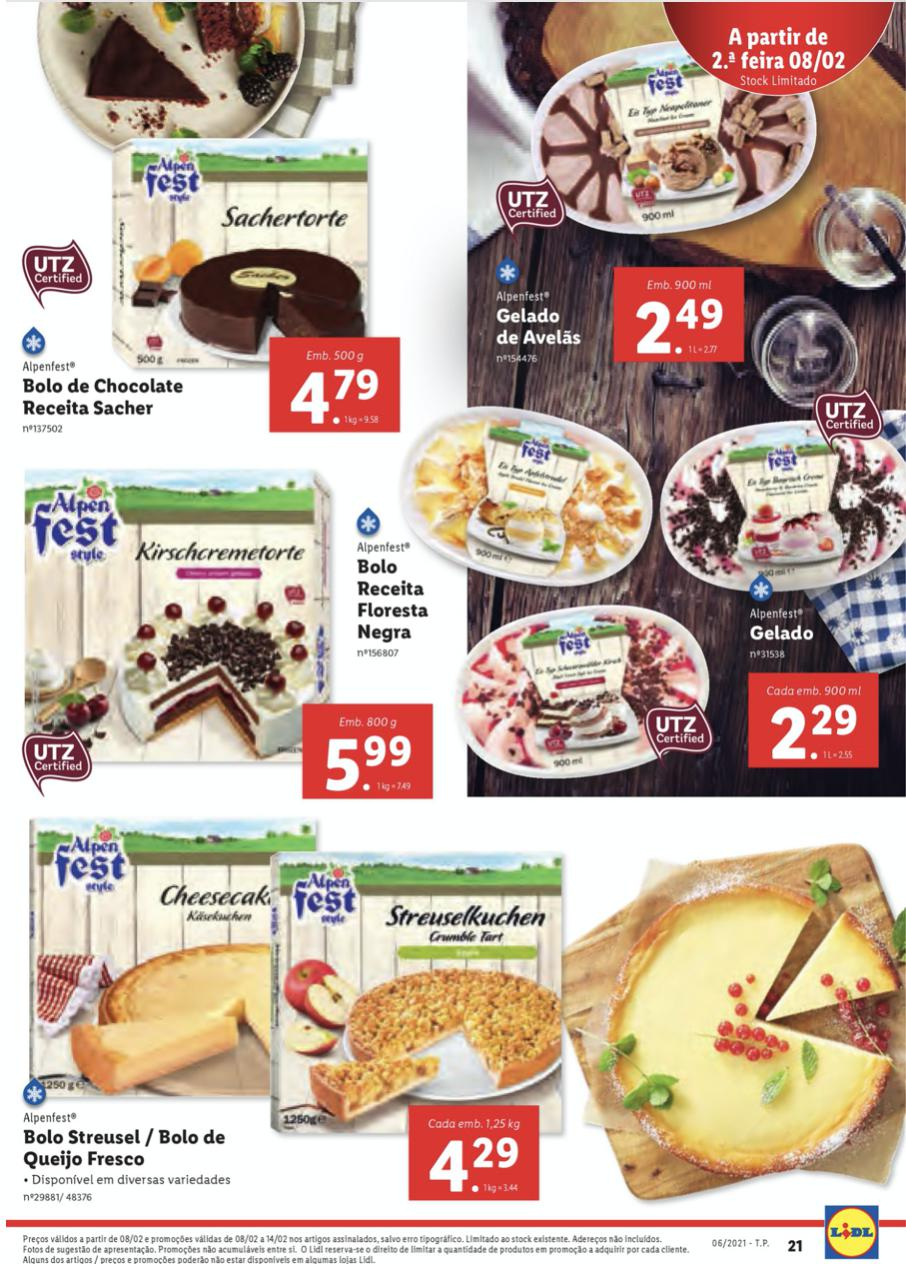name: (17, 1125, 229, 1172), (353, 559, 440, 648), (21, 375, 185, 422), (490, 304, 585, 351), (743, 622, 823, 647)
price: (290, 362, 392, 433), (424, 1129, 523, 1201), (637, 292, 728, 361), (321, 734, 418, 798), (767, 698, 862, 762)
product: (1, 808, 574, 1215), (456, 375, 885, 790), (6, 458, 446, 800), (7, 117, 415, 448), (468, 45, 885, 362)
